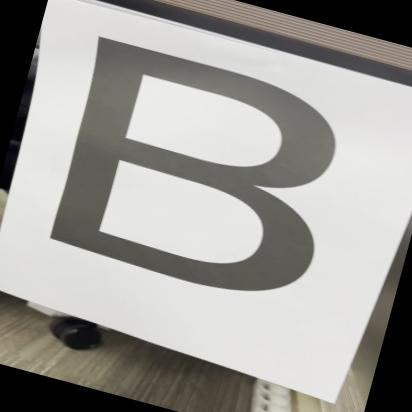seat: (10, 16, 380, 324)
